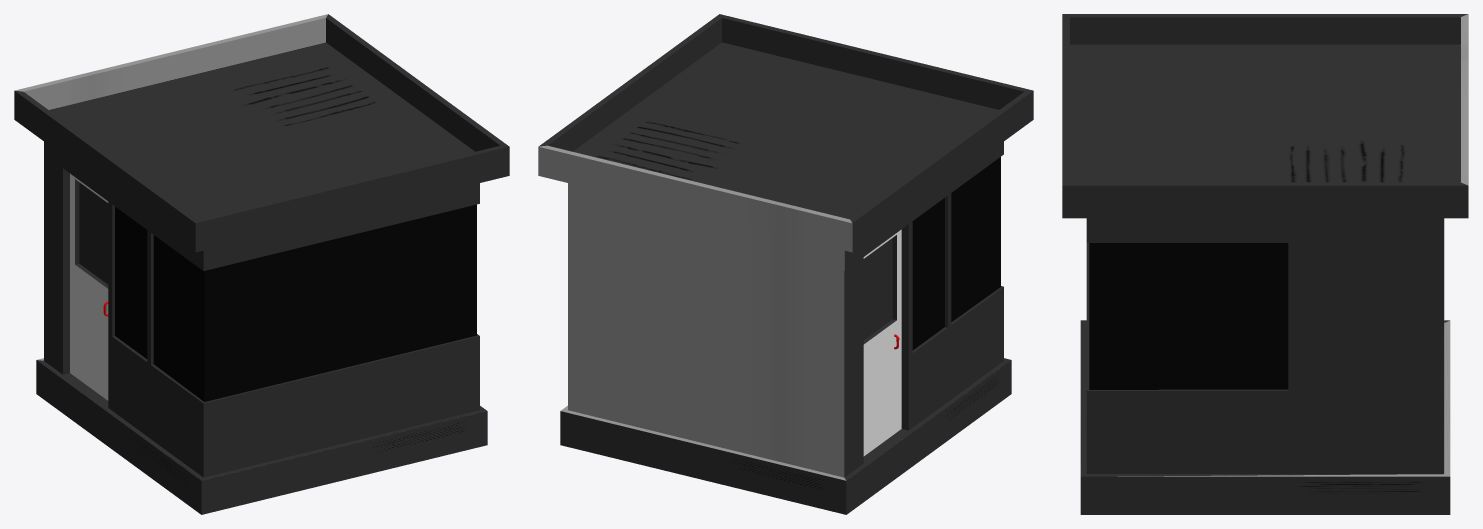
File: security post.obj
3 views of the same model, side by side, from view 1: azimuth 30°, elevation 25°; view 2: azimuth 150°, elevation 25°; view 3: azimuth 270°, elevation 25° (orthographic). The views are drawn at different scales.
Visible parts, largest first — view 1: OBJ; view 2: OBJ; view 3: OBJ.
Boxes of the visible parts, x1,y1,x2,y2 form: OBJ: (14, 14, 509, 514); OBJ: (538, 14, 1033, 514); OBJ: (1062, 14, 1468, 514).
Size of the model in its own units: 65.86 by 60.32 by 65.86.
Materials: 1 (1 with a texture image).
